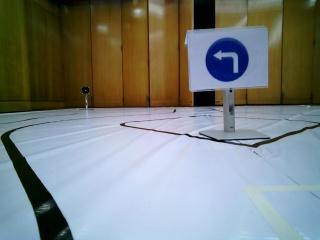left: (189, 30, 266, 88)
